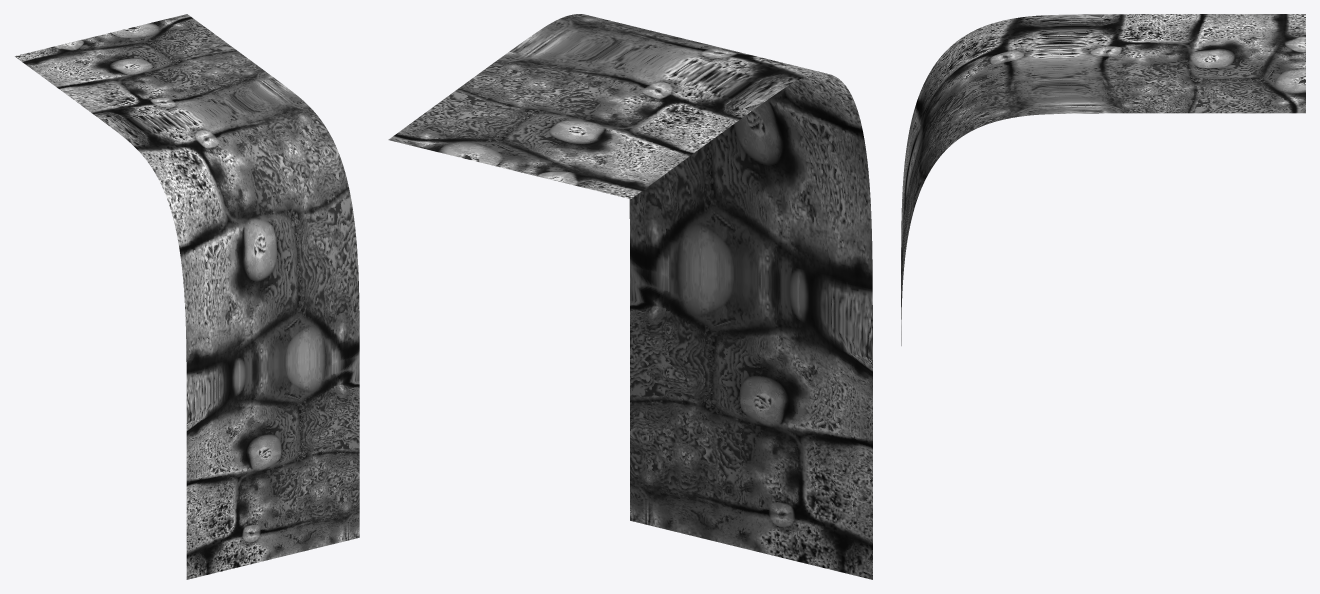
Rendered from WaterFallMesh.fbx.
3 renders of one model, left to right at view 1: azimuth 30°, elevation 25°; view 2: azimuth 150°, elevation 25°; view 3: azimuth 270°, elevation 25°, orthographic. The views are drawn at different scales.
Parts seen in each view (by area): view 1: pCube7; view 2: pCube7; view 3: pCube7.
Boxes of the visible parts, x1,y1,x2,y2 form: pCube7: (14,14,359,579); pCube7: (388,14,872,579); pCube7: (901,14,1305,345).
Bounding box in the file's own units: 10 × 21.95 × 17.25.
1 material, 1 textured.
